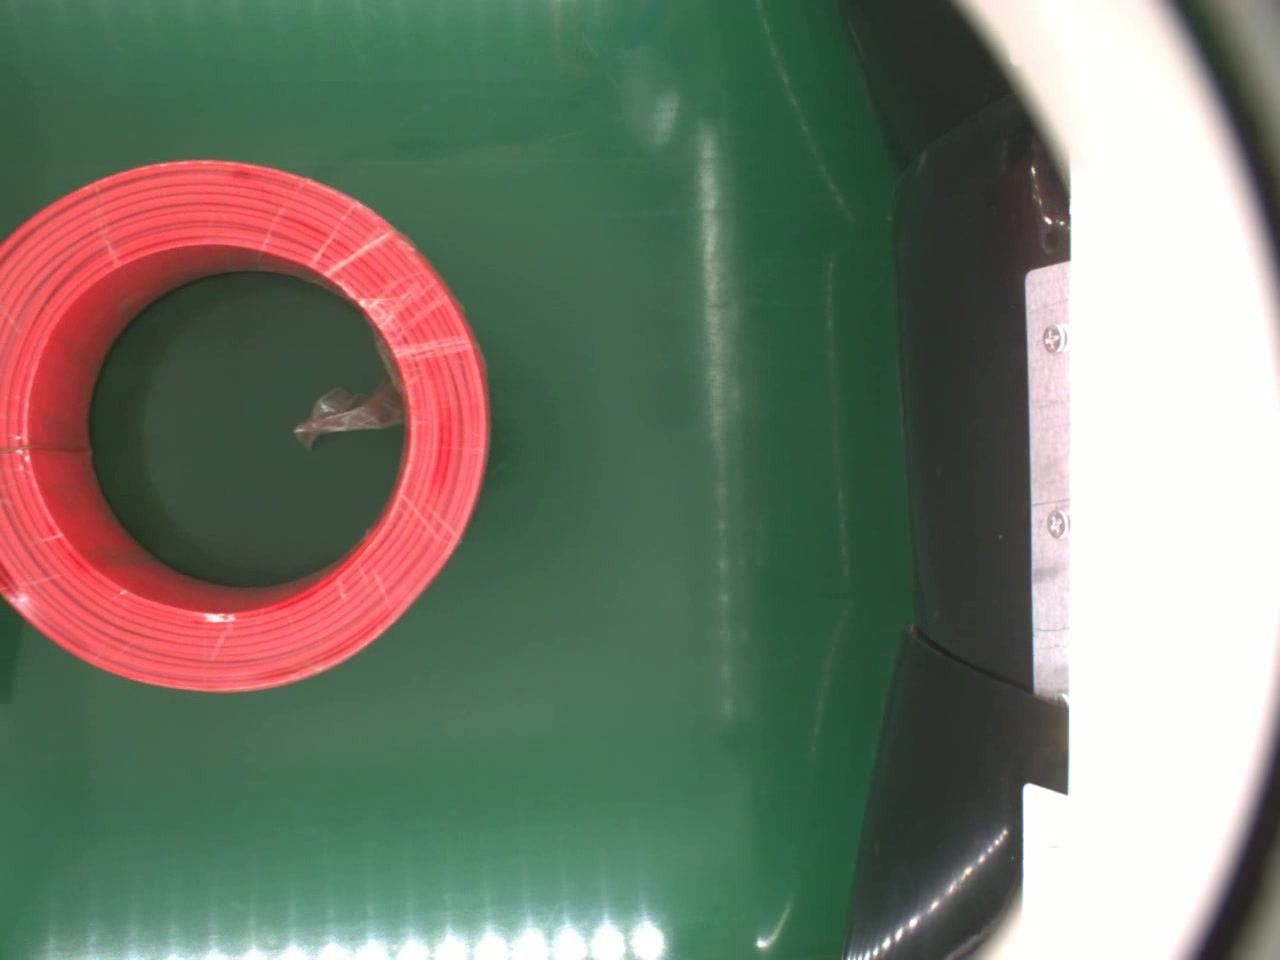red: (0, 155, 489, 696)
